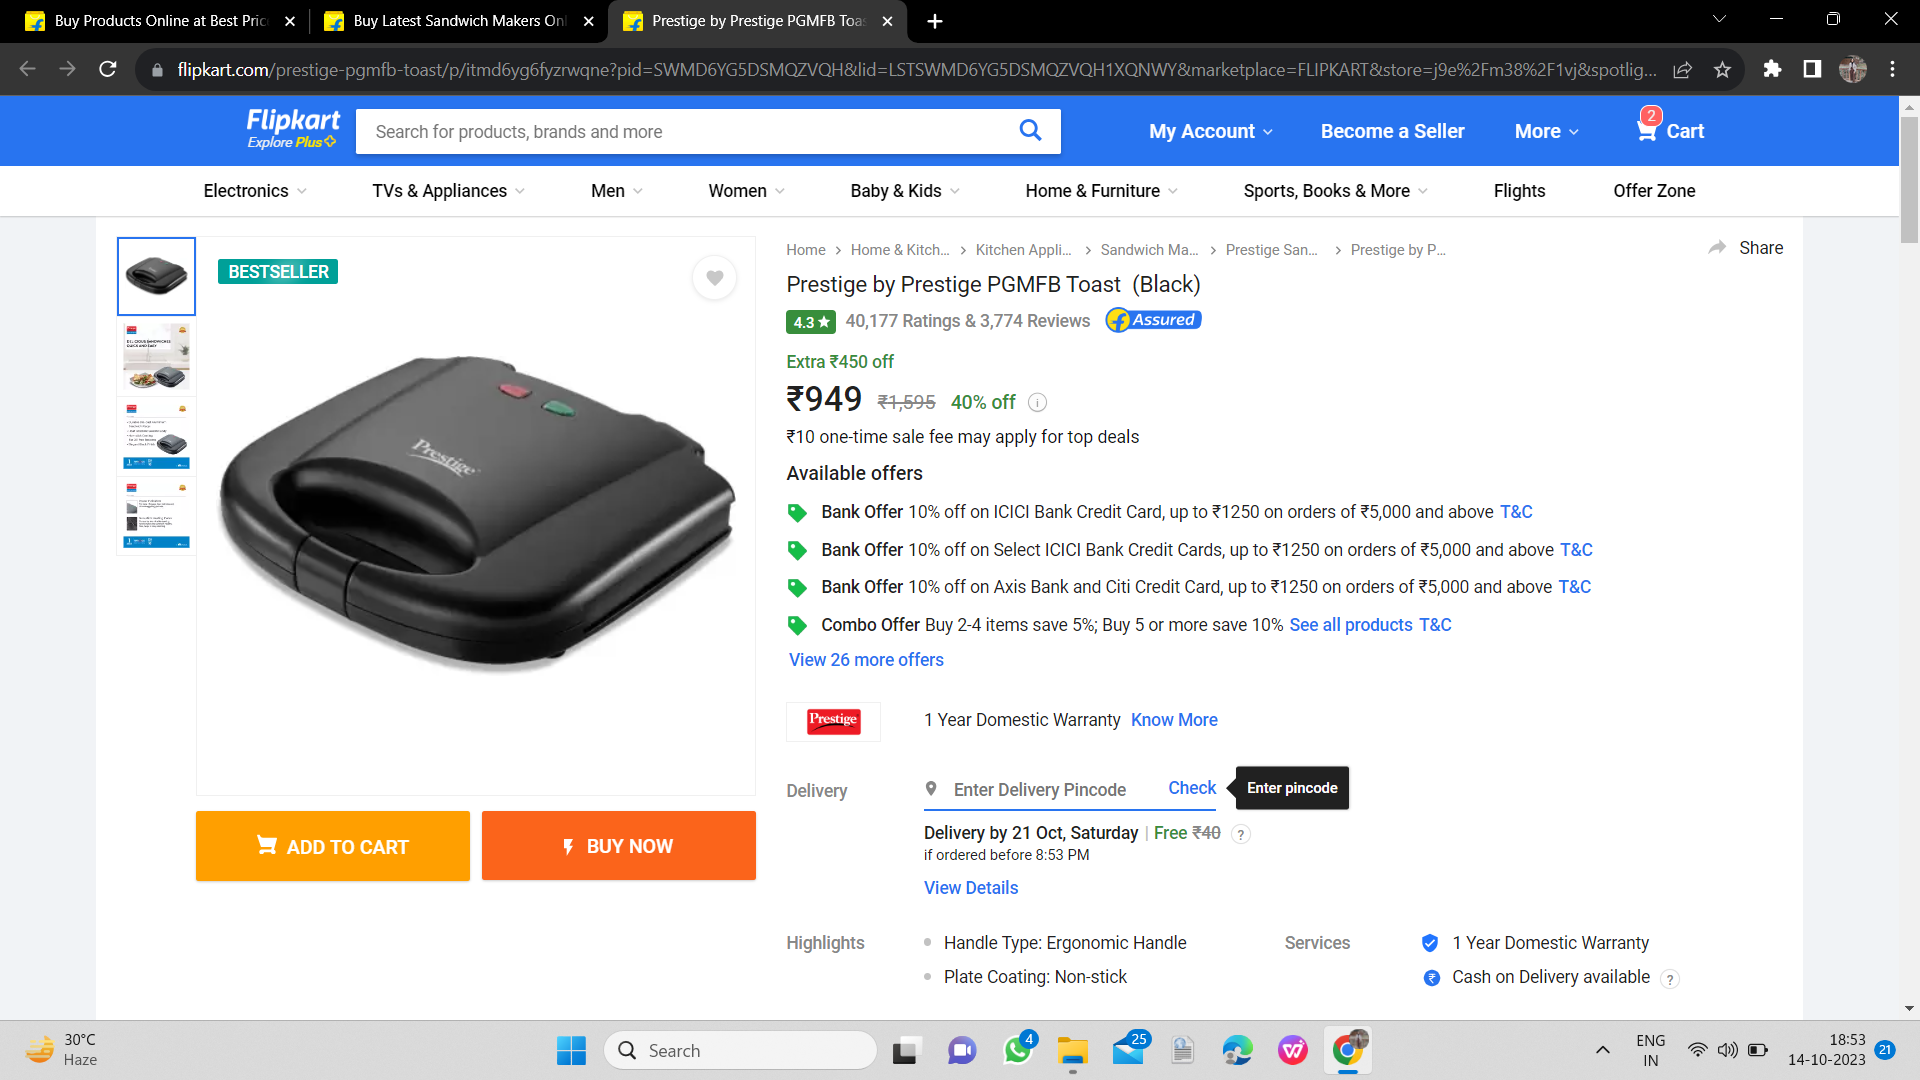Image: (200, 231, 756, 709), (351, 96, 1075, 160)
Paragraph: (779, 498, 1621, 673), (770, 761, 1370, 898), (187, 796, 764, 889), (1137, 95, 1716, 166), (777, 347, 1146, 451), (1266, 922, 1680, 1007), (773, 922, 1201, 997), (794, 703, 1232, 746), (783, 264, 1200, 299), (774, 306, 1215, 332), (777, 458, 926, 485)
